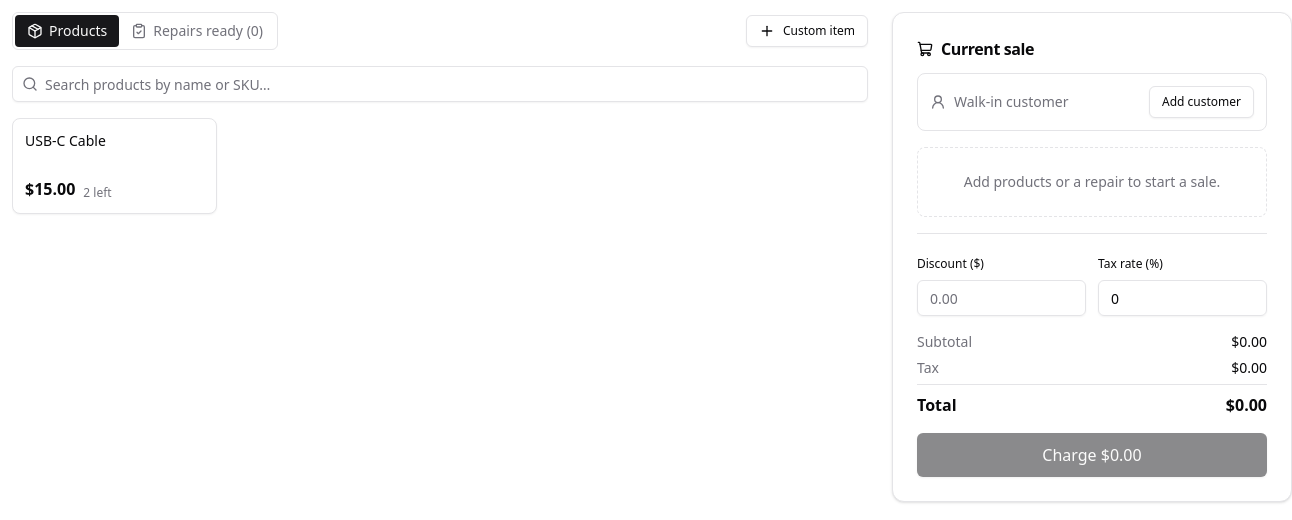
Test: PosTerminal › applies tax and remembers the rate
Click the button "USB-C Cable $15.00 2 left" at (114, 166), box [12,118,217,214]
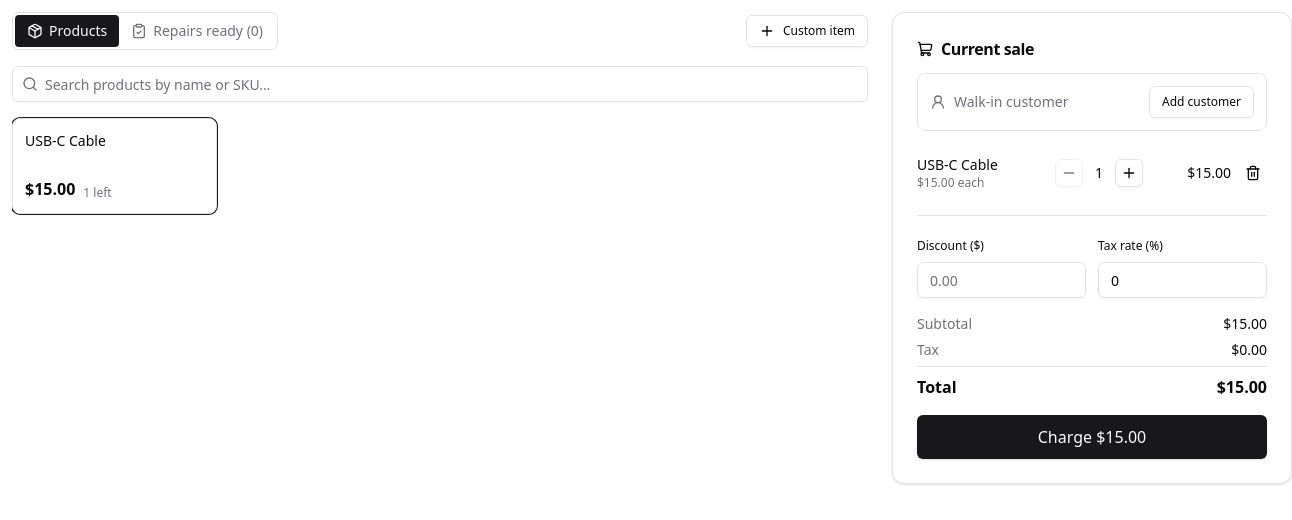
Replace the text in the number field labelled "Tax rate (%)" with "10" at (1182, 280), box [1098,262,1267,298]
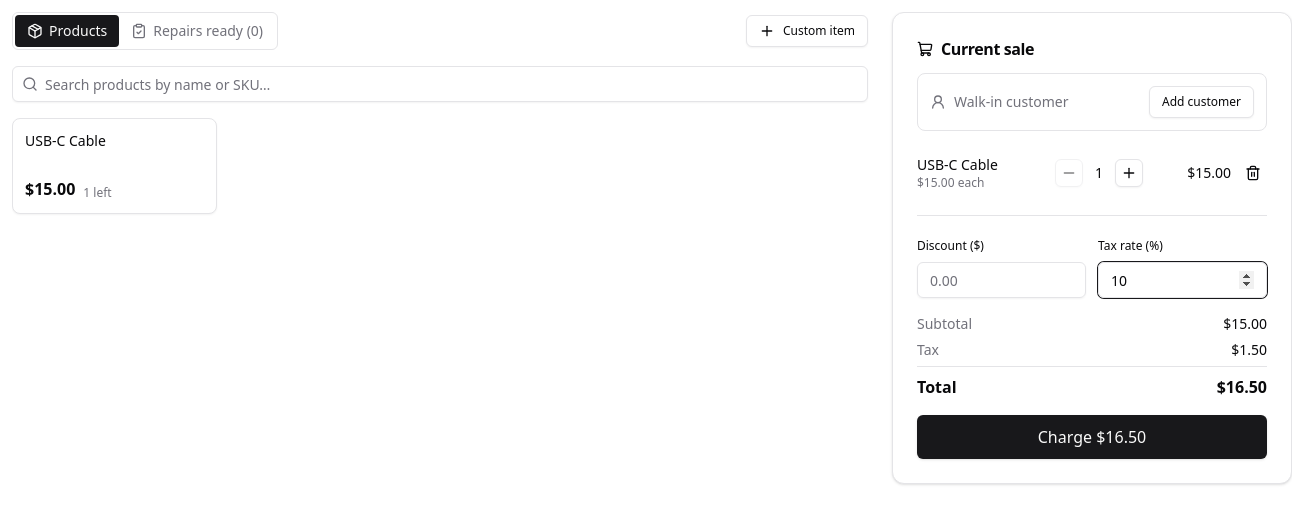
Expected: the button "Charge $16.50" is shown, [917,415,1267,459]
